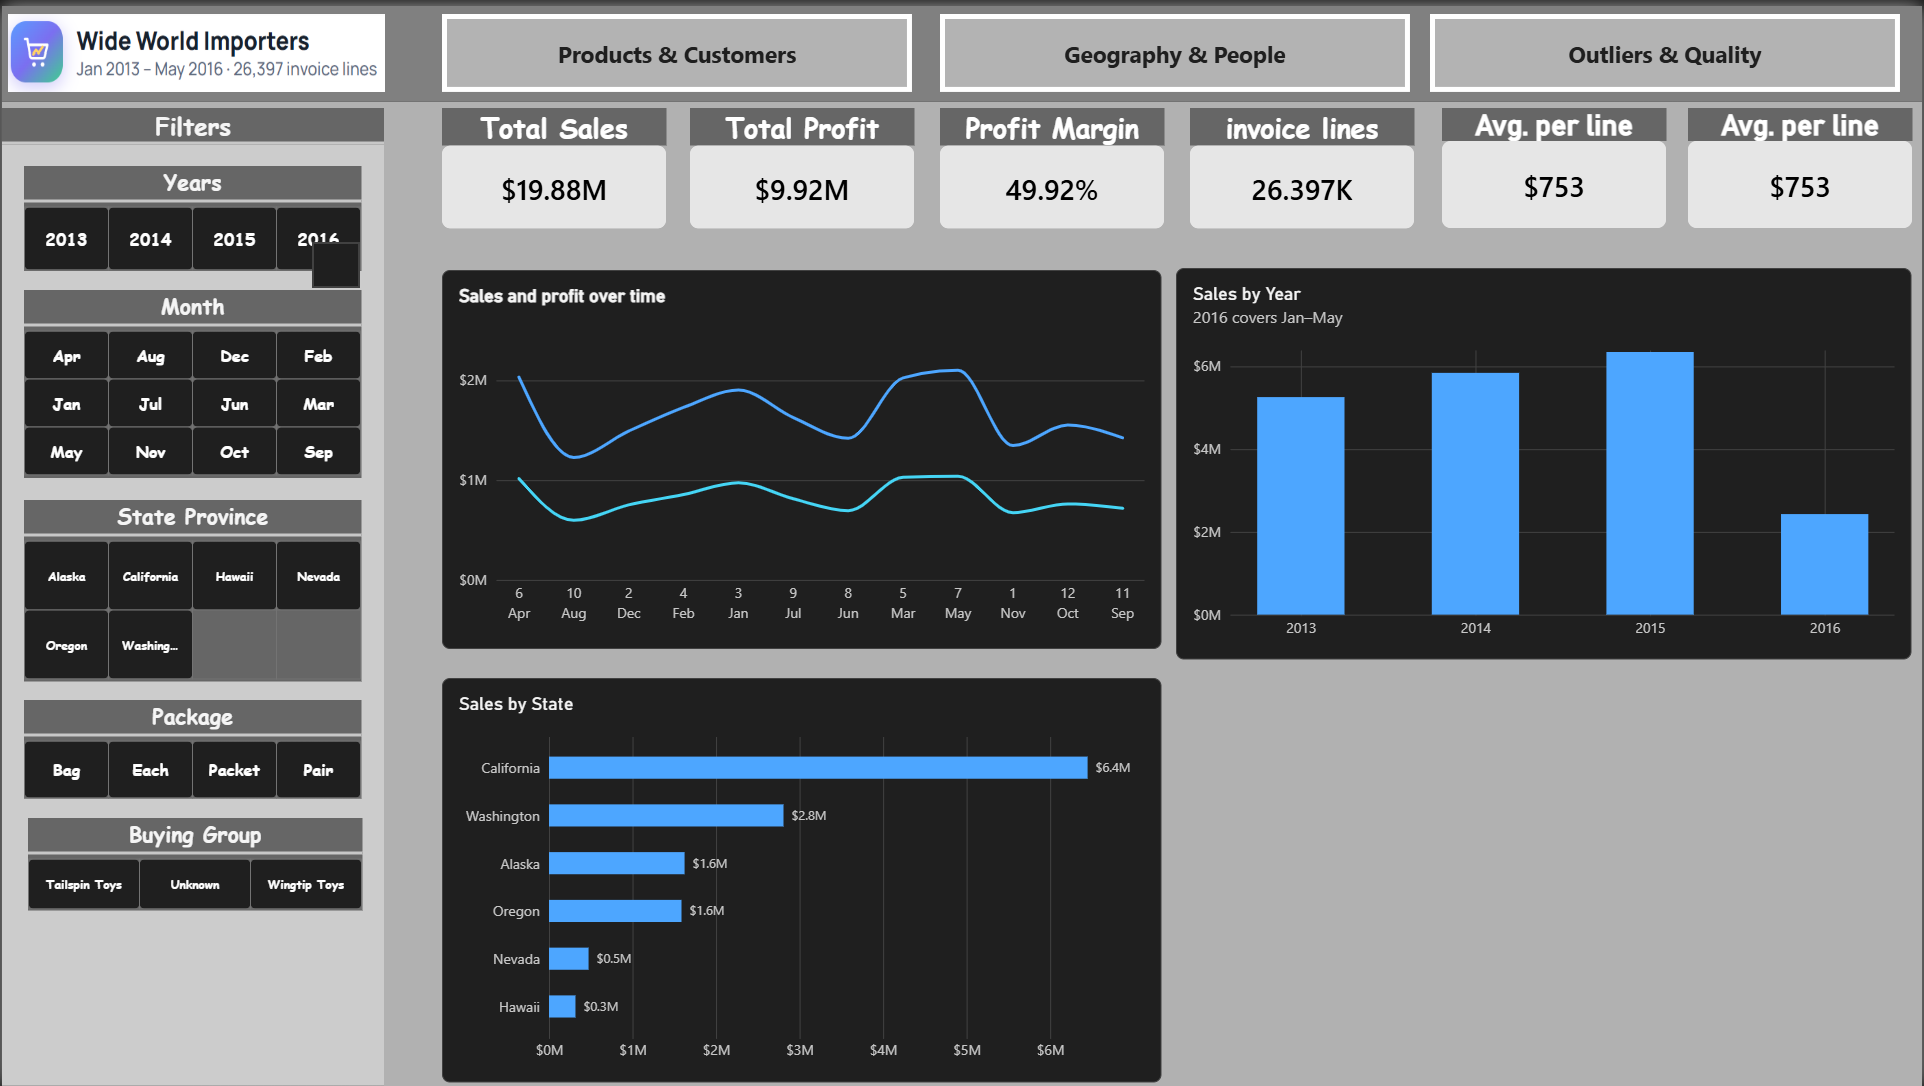

The page's visual inventory and layout, read from the dashboard file:
{"tool":"powerbi","page":{"name":"Overview","canvas":[1920,1080],"ordinal":0},"visuals":[{"type":"shape","title":"Filters","box":[0,101.9,382.1,977.5],"z":0,"group":"g3"},{"type":"lineChart","title":"Sales and profit over time","fields":{"Category":["DimDate.Short Month","DimDate.Fiscal Month Number"],"Y":["FactSale.Total Sales","FactSale.Total Profit"]},"box":[439.4,264.3,719.6,378.9],"z":0},{"type":"group","id":"g1","title":"Group 1","box":[439.4,101.9,1471,121],"z":1000},{"type":"advancedSlicerVisual","title":"State Province","fields":{"Values":["DimCity.State Province"]},"box":[22.3,493.5,337.5,181.5],"z":1000,"group":"g3"},{"type":"advancedSlicerVisual","title":"Years","fields":{"Values":["DimDate.Calendar Year"]},"box":[22.3,159.2,337.5,105.1],"z":2000,"group":"g3"},{"type":"clusteredColumnChart","title":"Sales by Year","fields":{"Category":["DimDate.Calendar Year"],"Y":["FactSale.Total Sales"]},"box":[1174.9,261.1,735.5,391.6],"z":2000},{"type":"advancedSlicerVisual","title":"Month","fields":{"Values":["DimDate.Short Month"]},"box":[22.3,283.4,337.5,187.9],"z":3000,"group":"g3"},{"type":"barChart","title":"Sales by State","fields":{"Category":["DimCity.State Province"],"Y":["FactSale.Total Sales"]},"box":[439.4,671.8,719.6,404.4],"z":3000},{"type":"group","id":"g2","title":"Group 2","box":[0,0,1920,95.5],"z":5000},{"type":"cardVisual","title":"Total Sales","fields":{"Data":["FactSale.Total Sales"]},"box":[439.4,101.9,224.3,121],"z":5000,"group":"g1"},{"type":"advancedSlicerVisual","fields":{"Values":["DimCustomer.Buying Group"]},"box":[25.5,811.9,334.3,92.3],"z":5000,"group":"g3"},{"type":"group","id":"g3","title":"Group 3","box":[0,101.9,382.1,977.5],"z":6000},{"type":"advancedSlicerVisual","title":"Package","fields":{"Values":["FactSale.Package"]},"box":[22.3,694.1,337.5,98.7],"z":6000,"group":"g3"},{"type":"shape","box":[0,0,1920,95.5],"z":7000,"group":"g2"},{"type":"shape","box":[439.8,7.5,469.9,77.9],"z":7000},{"type":"cardVisual","title":"Avg. per line","fields":{"Data":["FactSale.Avg. per line"]},"box":[1438.8,101.9,224.3,121],"z":7500,"group":"g1"},{"type":"image","box":[5,7.5,377,77.9],"z":8000,"group":"g2"},{"type":"shape","box":[937.4,7.5,469.9,77.9],"z":8000},{"type":"shape","box":[1427.4,7.5,469.9,77.9],"z":9000},{"type":"cardVisual","title":"Avg. per line","fields":{"Data":["FactSale.Avg. per line"]},"box":[1686.2,101.9,224.3,121],"z":10000,"group":"g1"},{"type":"cardVisual","title":"invoice lines","fields":{"Data":["FactSale.Invoice Lines"]},"box":[1188.1,101.9,224.3,121],"z":11000,"group":"g1"},{"type":"cardVisual","title":"Profit Margin","fields":{"Data":["FactSale.Profit Margin %"]},"box":[937.4,101.9,224.3,121],"z":12000,"group":"g1"},{"type":"cardVisual","title":"Total Profit","fields":{"Data":["FactSale.Total Profit"]},"box":[686.8,101.9,224.3,121],"z":13000,"group":"g1"}]}

Visuals, with their boxes in screenshot pixels (x1, y1, x2, y2), scaled from the page's 1920x1080 canvas onto the 1924x1086 screenshot:
"Filters" shape: l=0, t=102, r=383, b=1085
"Sales and profit over time" lineChart: l=440, t=266, r=1161, b=647
"Group 1" group: l=440, t=102, r=1914, b=224
"State Province" advancedSlicerVisual: l=22, t=496, r=361, b=679
"Years" advancedSlicerVisual: l=22, t=160, r=361, b=266
"Sales by Year" clusteredColumnChart: l=1177, t=263, r=1914, b=656
"Month" advancedSlicerVisual: l=22, t=285, r=361, b=474
"Sales by State" barChart: l=440, t=676, r=1161, b=1082
"Group 2" group: l=0, t=0, r=1923, b=96
"Total Sales" cardVisual: l=440, t=102, r=665, b=224
advancedSlicerVisual - DimCustomer.Buying Group: l=26, t=816, r=361, b=909
"Group 3" group: l=0, t=102, r=383, b=1085
"Package" advancedSlicerVisual: l=22, t=698, r=361, b=797
shape: l=0, t=0, r=1923, b=96
shape: l=441, t=8, r=912, b=86
"Avg. per line" cardVisual: l=1442, t=102, r=1667, b=224
image: l=5, t=8, r=383, b=86
shape: l=939, t=8, r=1410, b=86
shape: l=1430, t=8, r=1901, b=86
"Avg. per line" cardVisual: l=1690, t=102, r=1914, b=224
"invoice lines" cardVisual: l=1191, t=102, r=1415, b=224
"Profit Margin" cardVisual: l=939, t=102, r=1164, b=224
"Total Profit" cardVisual: l=688, t=102, r=913, b=224
